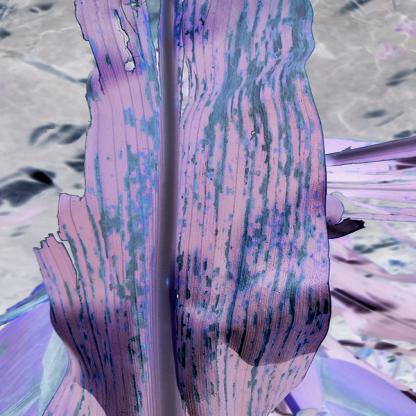corn leaf blight: (19, 0, 345, 416)
